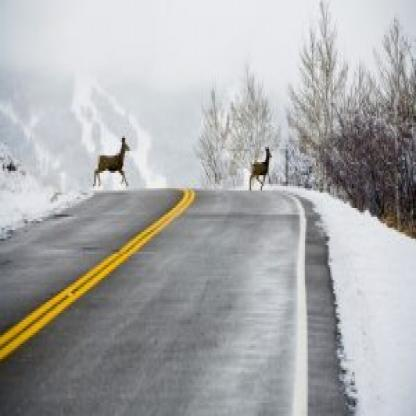Deer: (92, 136, 130, 188), (248, 144, 273, 192)
